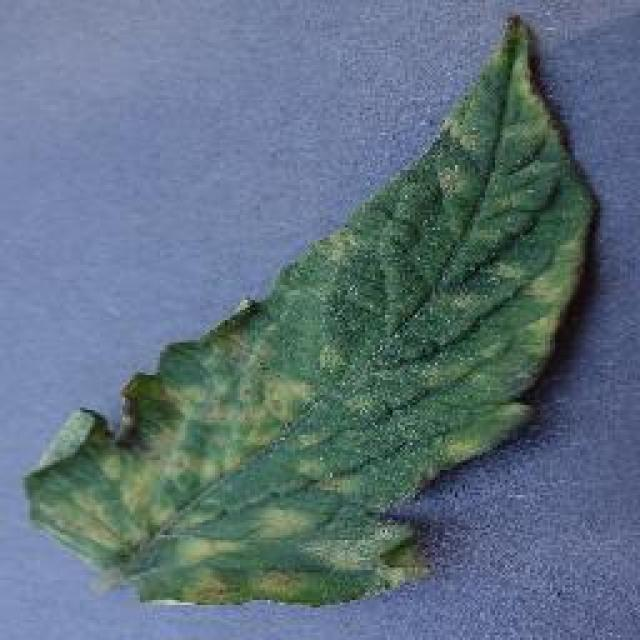Tomato mold leaf: (26, 12, 602, 612)
